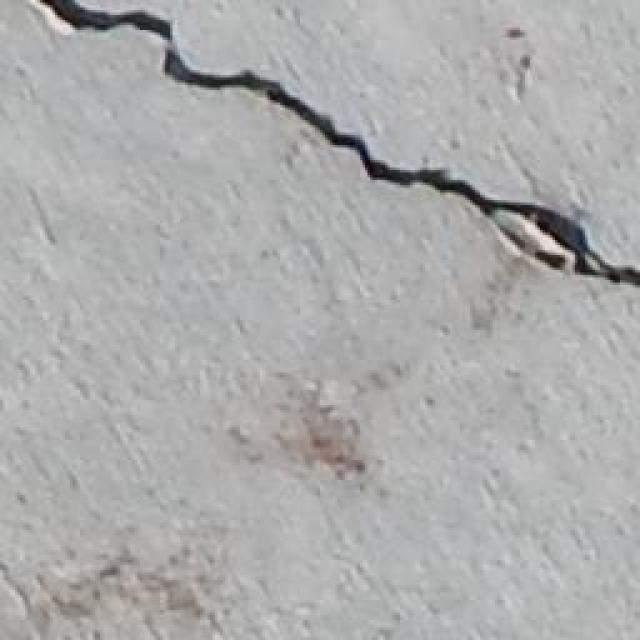concrete-crack: (23, 0, 640, 288)
